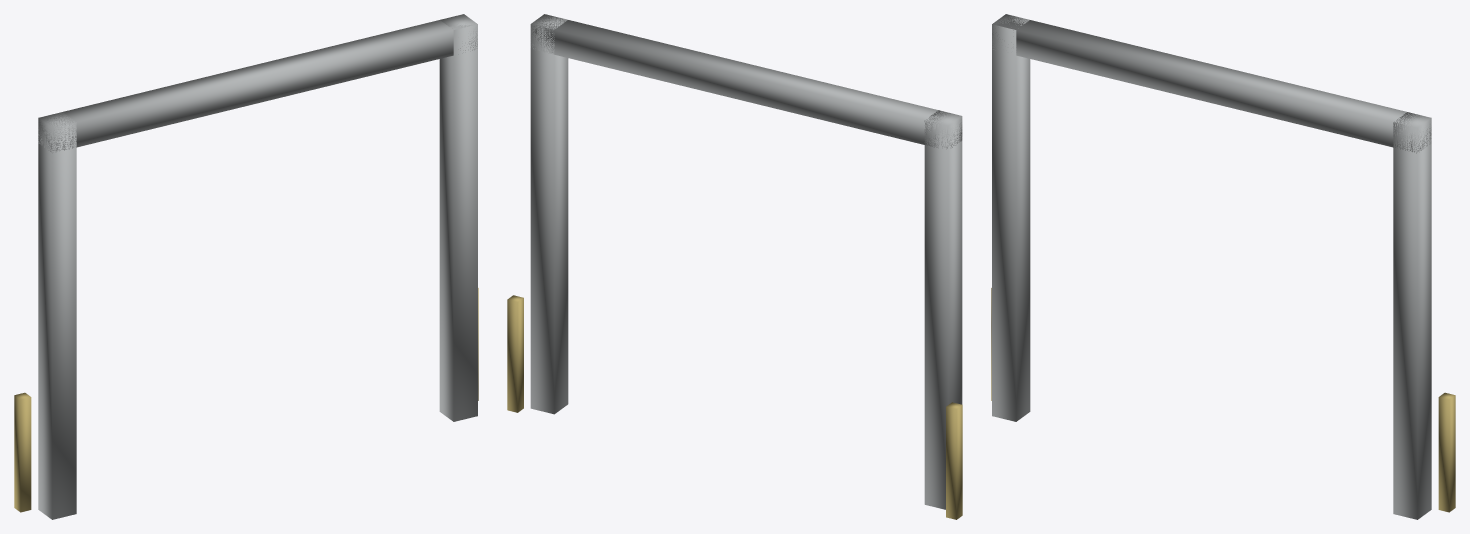
The model's file is stair_shaft_industrial_w280_h260_d18.glb.
The picture shows the model from 3 angles, left to right: view 1: azimuth 30°, elevation 25°; view 2: azimuth 150°, elevation 25°; view 3: azimuth 330°, elevation 25°; orthographic projection.
Visible parts, largest first — view 1: world; view 2: world; view 3: world.
Part boxes in pixels (left/top/right/bottom): world: left=14, top=14, right=478, bottom=519; world: left=507, top=14, right=962, bottom=519; world: left=991, top=14, right=1455, bottom=519.
Size of the model in its own units: 3.4 by 2.78 by 0.28.
